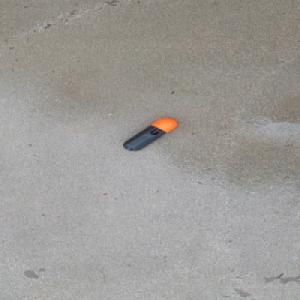PlasticPart: (121, 117, 178, 151)
